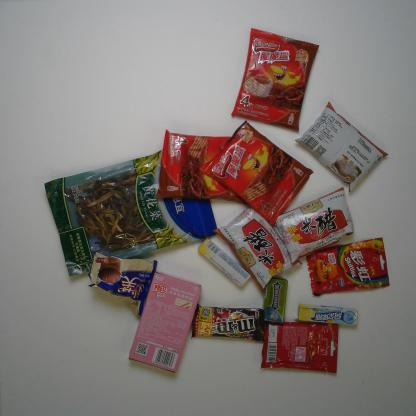Candy: (304, 235, 390, 299), (257, 318, 344, 376), (194, 237, 252, 289), (294, 301, 360, 328)
Chocolate: (186, 300, 268, 345)
Dessert: (202, 120, 314, 226), (230, 30, 323, 134), (126, 269, 206, 375), (155, 127, 257, 200), (81, 249, 159, 318)
Dried Food: (42, 135, 220, 281)
Gum: (263, 276, 290, 326)
Seasoner: (295, 101, 389, 192), (274, 180, 352, 266), (216, 206, 298, 284)
